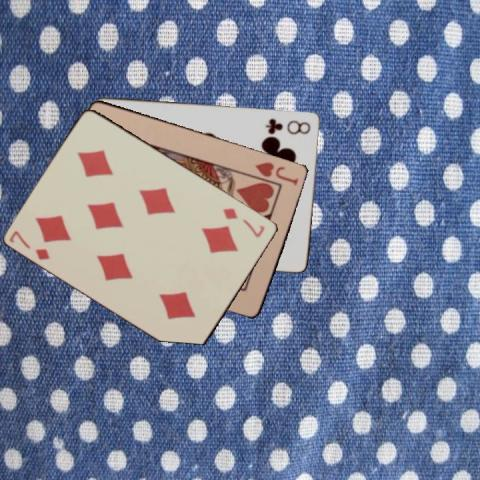7d: (220, 205, 267, 239), (7, 228, 52, 262)
8c: (263, 116, 312, 136)
Jh: (252, 158, 300, 186)
